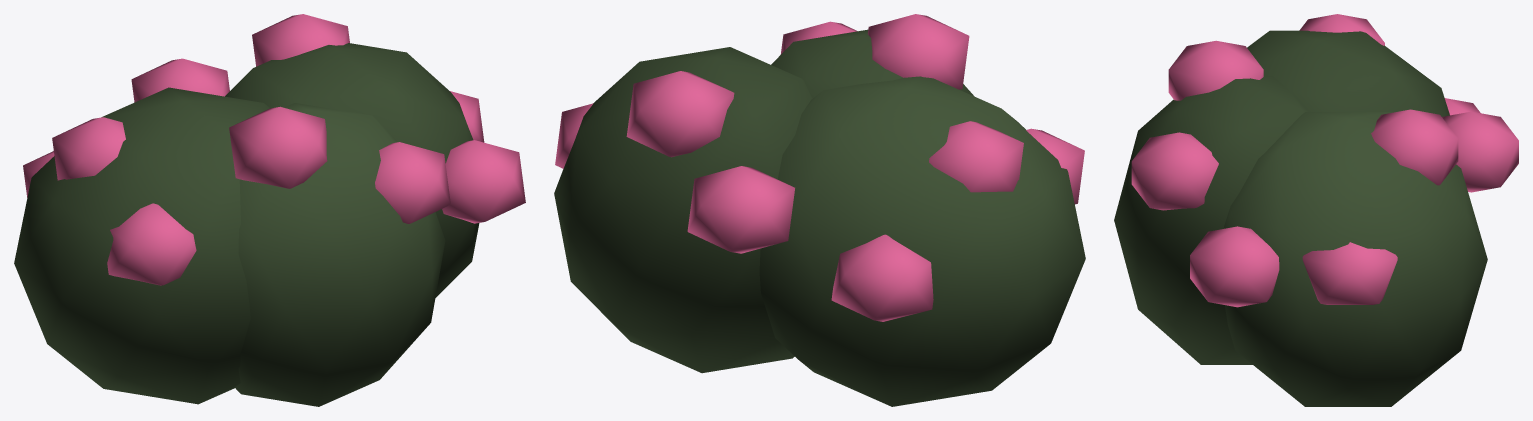
The model's file is scatter2.fbx.
3 renders of one model, left to right at view 1: azimuth 30°, elevation 25°; view 2: azimuth 150°, elevation 25°; view 3: azimuth 270°, elevation 25°, orthographic. The views are drawn at different scales.
Visible parts, largest first — view 1: a2000/600/scatter2; view 2: a2000/600/scatter2; view 3: a2000/600/scatter2.
Boxes of the visible parts, x1,y1,x2,y2 form: a2000/600/scatter2: (14,14,525,406); a2000/600/scatter2: (554,14,1085,406); a2000/600/scatter2: (1114,14,1518,406).
Bounding box in the file's own units: 1.65 × 1.07 × 1.31.
